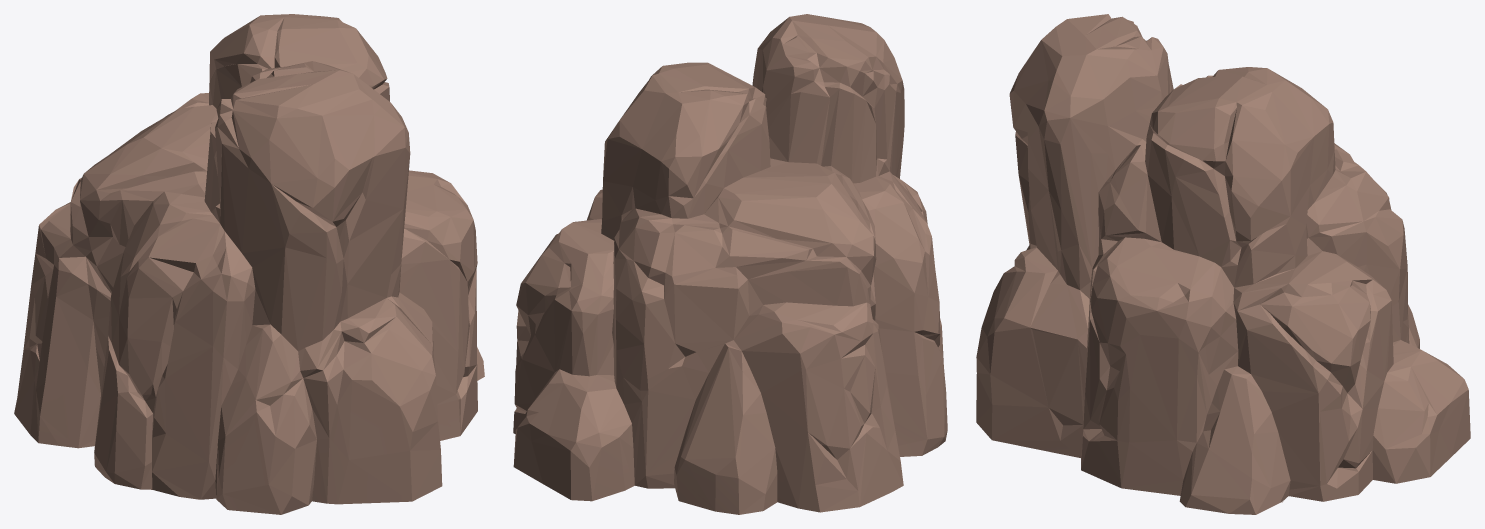
Rendered from zone3-s23.glb.
3 renders of one model, left to right at view 1: azimuth 30°, elevation 25°; view 2: azimuth 150°, elevation 25°; view 3: azimuth 270°, elevation 25°, orthographic. The views are drawn at different scales.
Parts seen in each view (by area): view 1: rock-sandstone-large-g.001; view 2: rock-sandstone-large-g.001; view 3: rock-sandstone-large-g.001.
Part boxes in pixels (x1,y1,x2,y2): rock-sandstone-large-g.001: (14, 14, 484, 514); rock-sandstone-large-g.001: (513, 14, 947, 514); rock-sandstone-large-g.001: (976, 14, 1470, 514).
Size of the model in its own units: 56.23 by 49.65 by 60.27.
